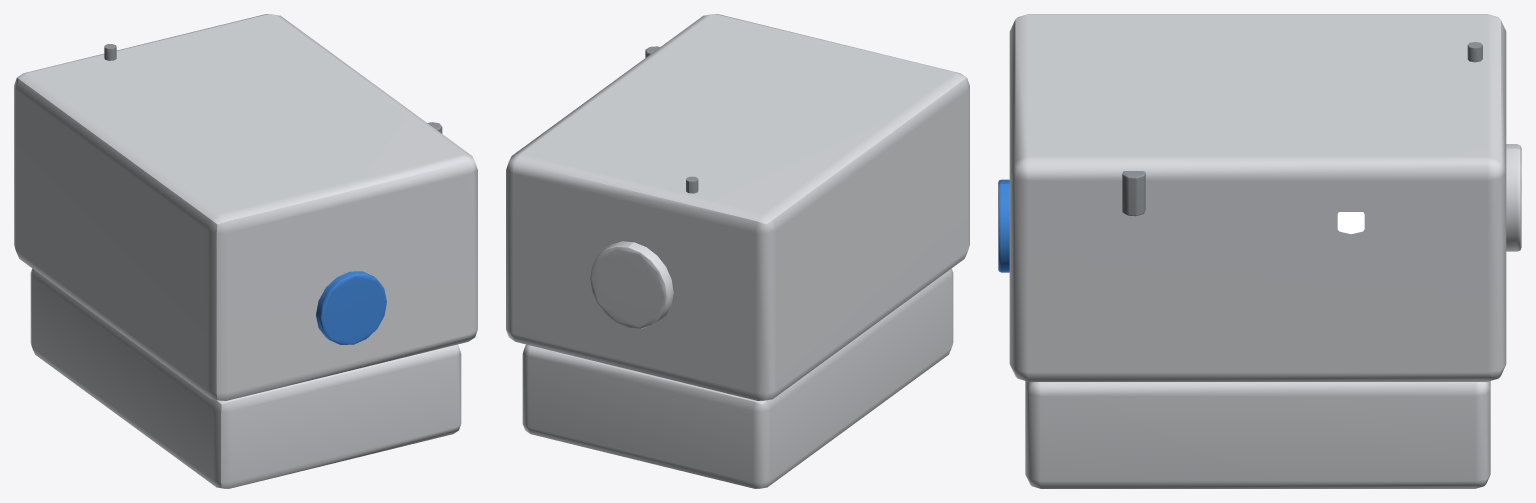
Rendered from trans_gearbox_case.glb.
The picture shows the model from 3 angles, left to right: view 1: azimuth 30°, elevation 25°; view 2: azimuth 150°, elevation 25°; view 3: azimuth 270°, elevation 25°; orthographic projection. The views are drawn at different scales.
Parts seen in each view (by area): view 1: Trans_Gearbox_Case; view 2: Trans_Gearbox_Case; view 3: Trans_Gearbox_Case.
Part boxes in pixels (x1,y1,x2,y2): Trans_Gearbox_Case: (14, 14, 477, 488); Trans_Gearbox_Case: (506, 14, 969, 488); Trans_Gearbox_Case: (998, 14, 1521, 488).
Bounding box in the file's own units: 0.2496 × 0.256 × 0.3375.
